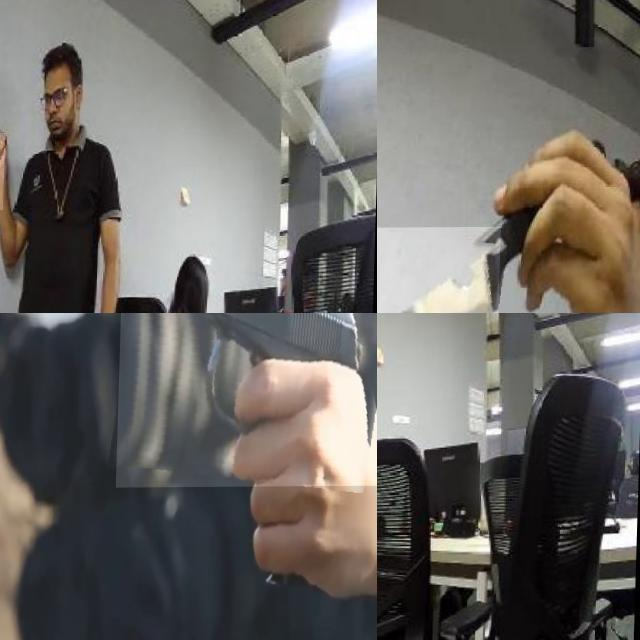-: (0, 133, 18, 210), (377, 549, 390, 621)
gun-knife-thesis - v11 Yolov5 augmented: (117, 313, 377, 487)
